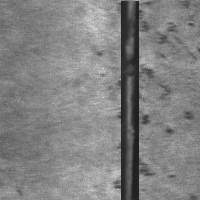rolled-in_scale: (109, 46, 167, 197), (117, 1, 198, 59)
scratches: (121, 1, 139, 200)
